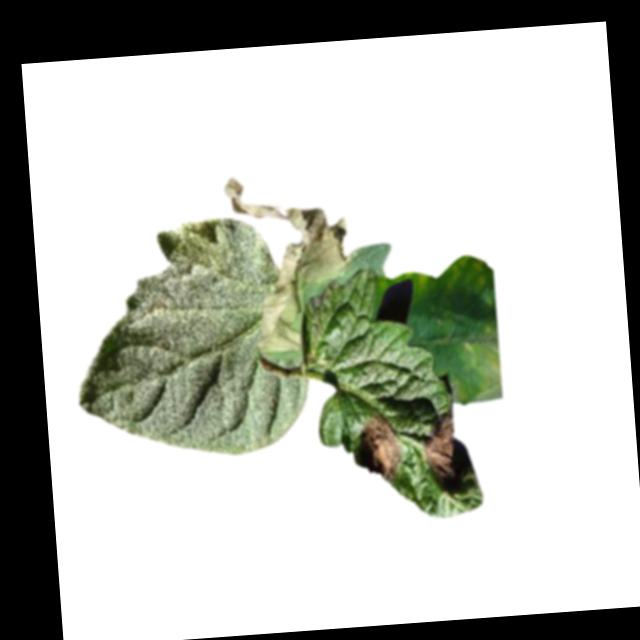Late_blight: (226, 166, 358, 356), (455, 269, 503, 391), (351, 409, 404, 489), (418, 408, 462, 493)
healthy: (67, 212, 313, 466)
